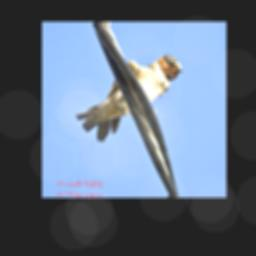Swallow: (73, 49, 185, 147)
